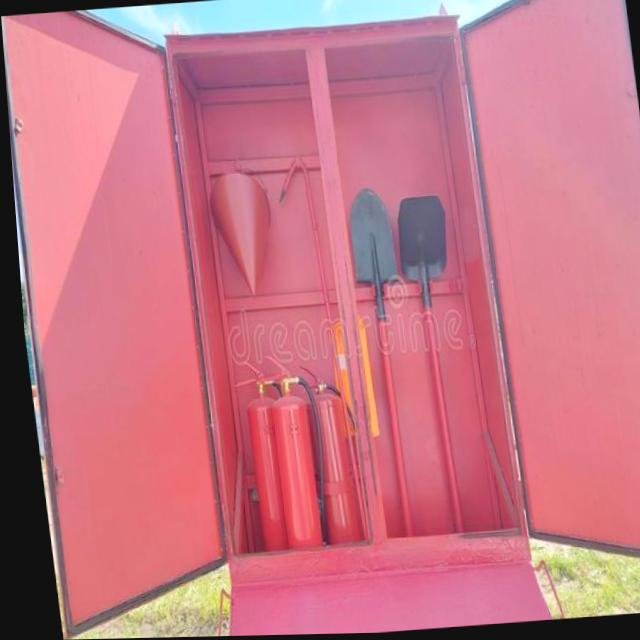FireExtinguisher: (250, 345, 328, 557), (286, 353, 365, 559), (225, 358, 295, 556)
